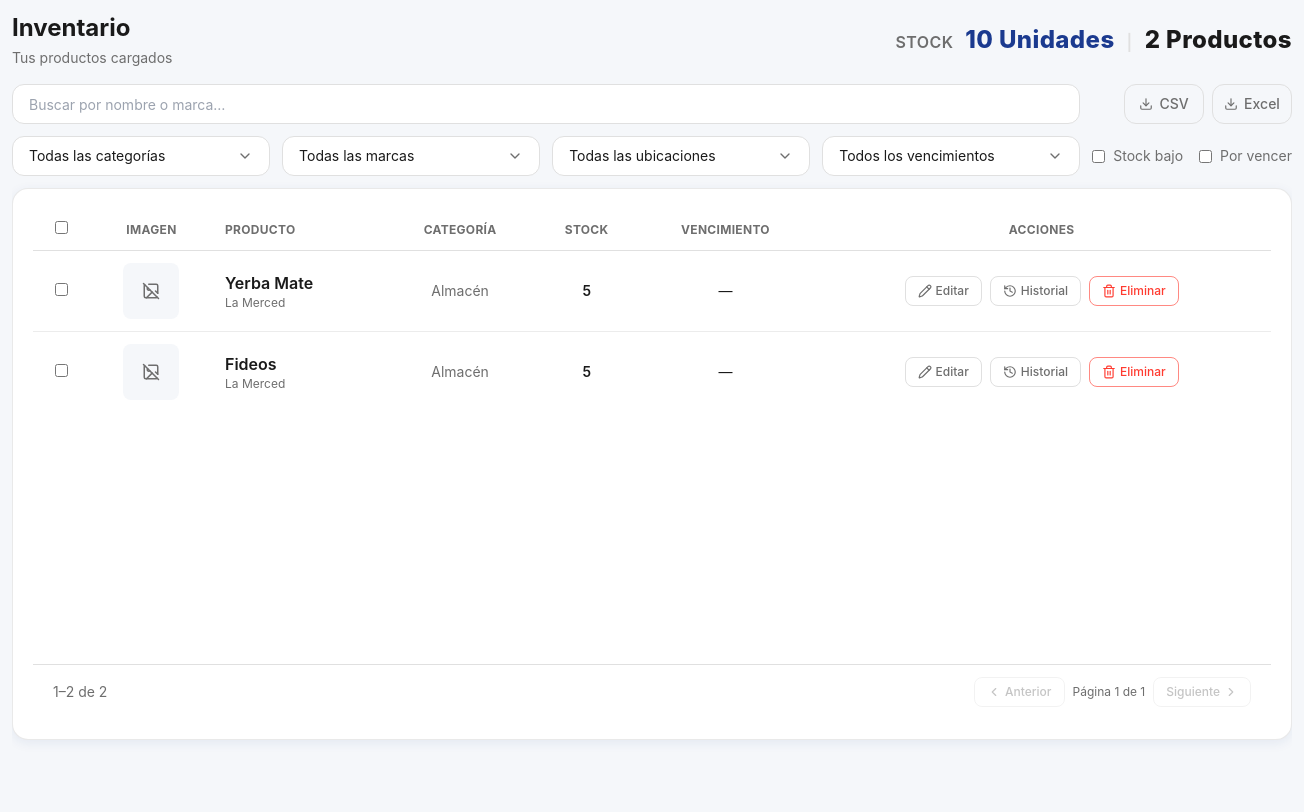
Test: MyProducts · filtros, selección y eliminación › la barra de selección solo aparece con productos elegidos, con la «X» a la izquierda del texto
expect the button "Yerba Mate" is shown: met, box [225,271,313,295]
Click the checkbox named "Seleccionar Yerba Mate". click: (62, 290)
box: [55,283,68,296]
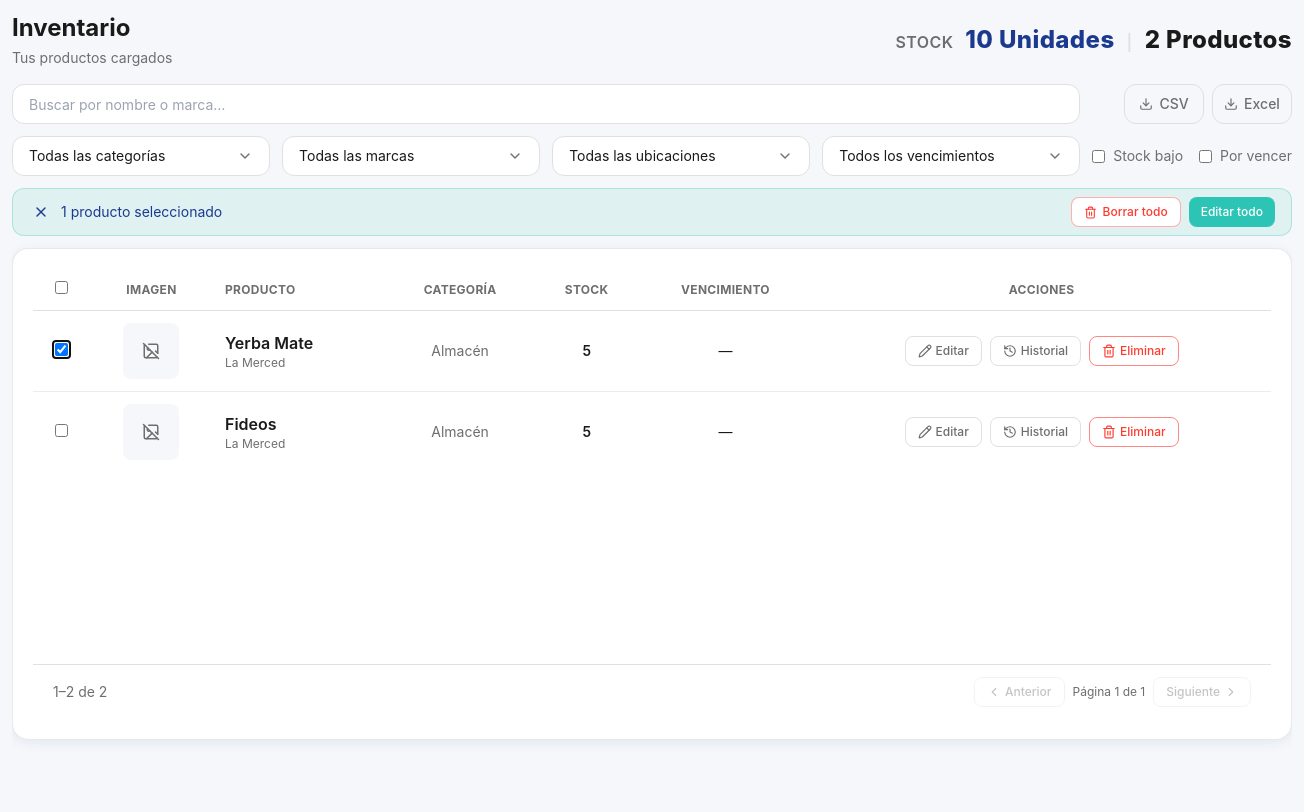
expect the button with test id "selection-edit" reads "Editar todo": met, box [1189,197,1275,227]
expect the button with test id "selection-delete" is enabled: met, box [1071,197,1181,227]
Click the button with test id "selection-clear". click: (41, 212)
box: [29,200,53,224]
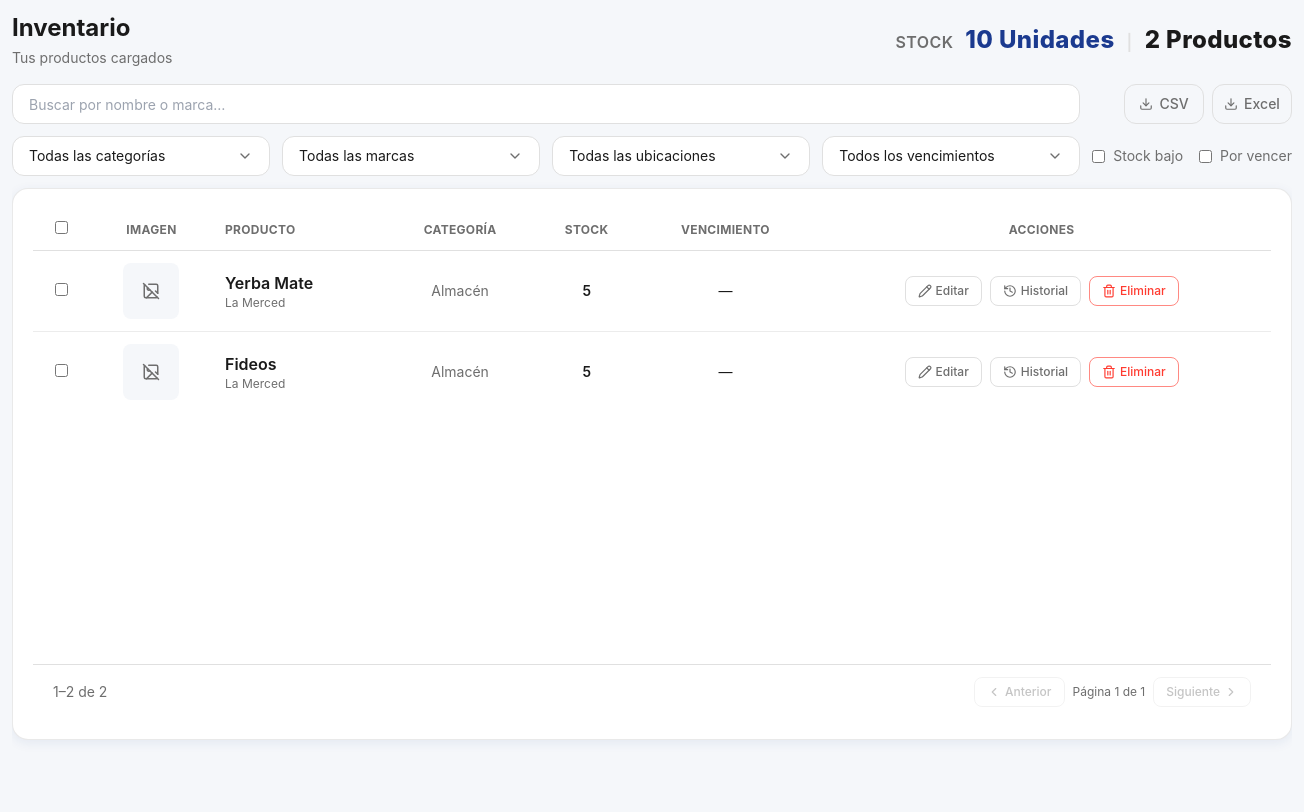
expect the checkbox named "Seleccionar Yerba Mate" is not checked: met, box [55,283,68,296]
expect the element with test id "selection-bar" is gone: met
